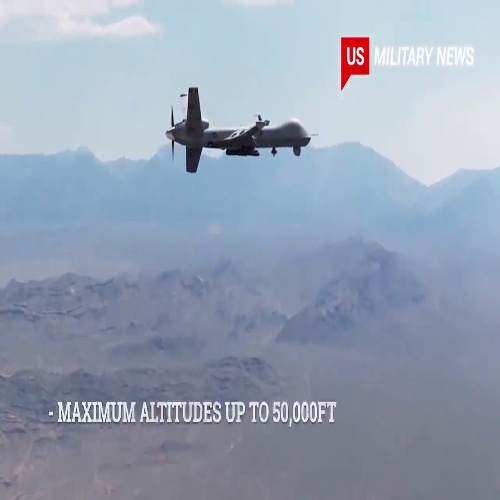uav451: (165, 82, 316, 173)
